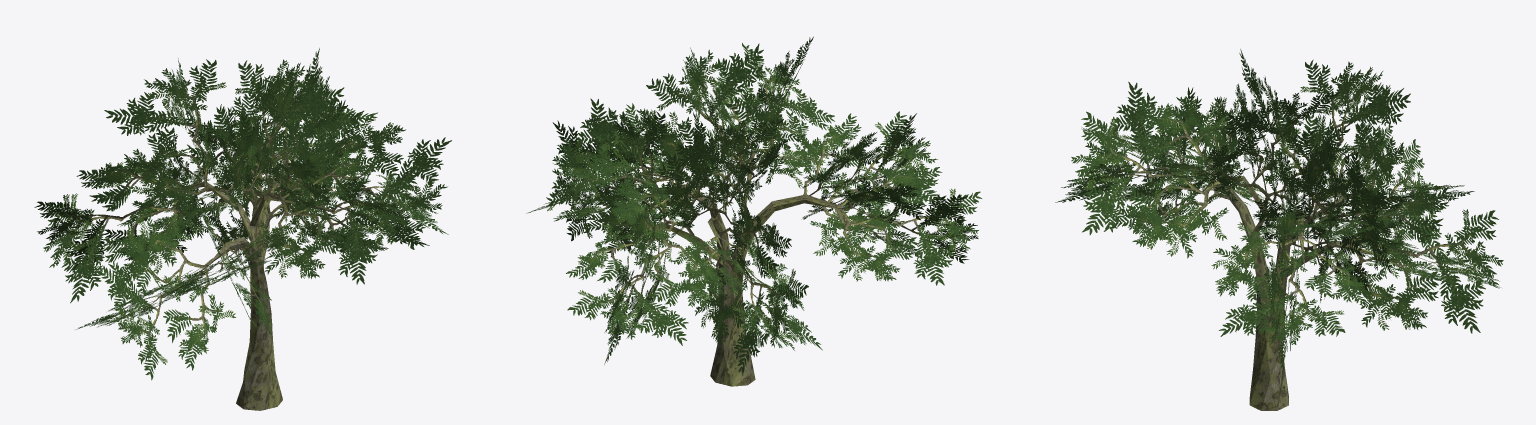
Rendered from tree.FBX.
3 renders of one model, left to right at view 1: azimuth 30°, elevation 25°; view 2: azimuth 150°, elevation 25°; view 3: azimuth 270°, elevation 25°, orthographic. The views are drawn at different scales.
Parts seen in each view (by area): view 1: tree1.tga; view 2: tree1.tga; view 3: tree1.tga.
Part boxes in pixels (x1,y1,x2,y2): tree1.tga: (34,48,451,410); tree1.tga: (527,36,981,386); tree1.tga: (1055,49,1503,410).
Bounding box in the file's own units: 74.32 × 72.83 × 60.22.
